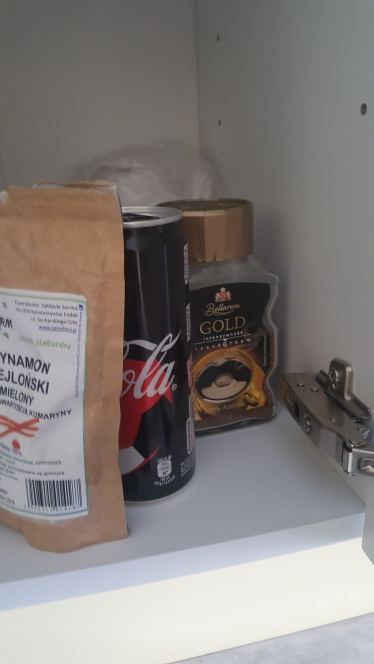colazero: (104, 198, 200, 525)
